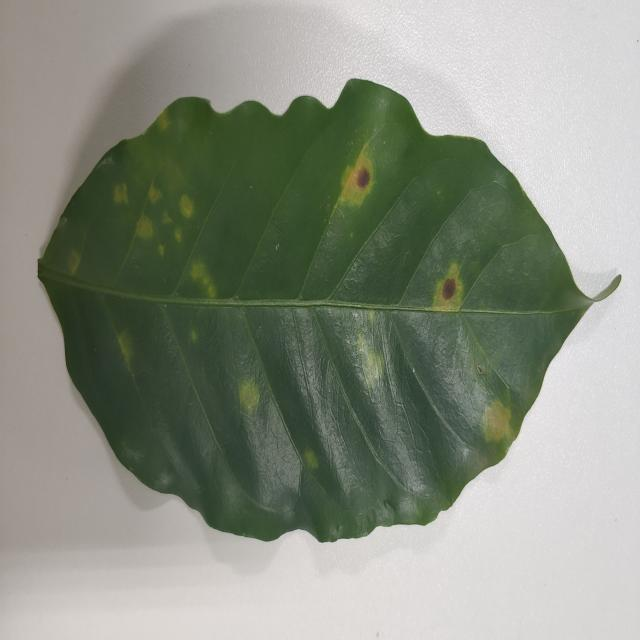Enfermedad-Roya: (36, 79, 621, 546)
